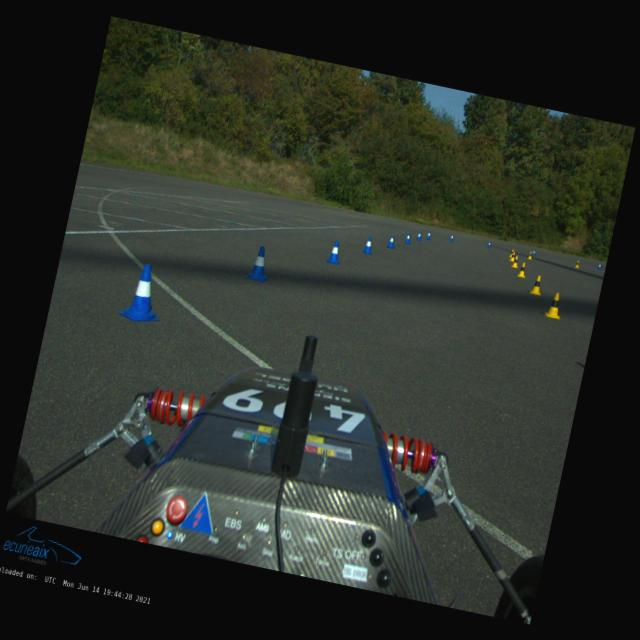blue_cone: (117, 260, 170, 325), (244, 244, 274, 282), (326, 239, 343, 264), (362, 235, 375, 254), (386, 233, 396, 248), (403, 232, 412, 244), (415, 231, 422, 240), (426, 230, 432, 239), (449, 234, 454, 242), (487, 240, 492, 248), (532, 249, 536, 255), (598, 263, 602, 269)
yellow_cone: (544, 290, 566, 319), (528, 274, 544, 295), (516, 260, 528, 278), (510, 255, 520, 268), (510, 250, 516, 262), (508, 248, 514, 258), (527, 251, 533, 259), (574, 260, 580, 268)
